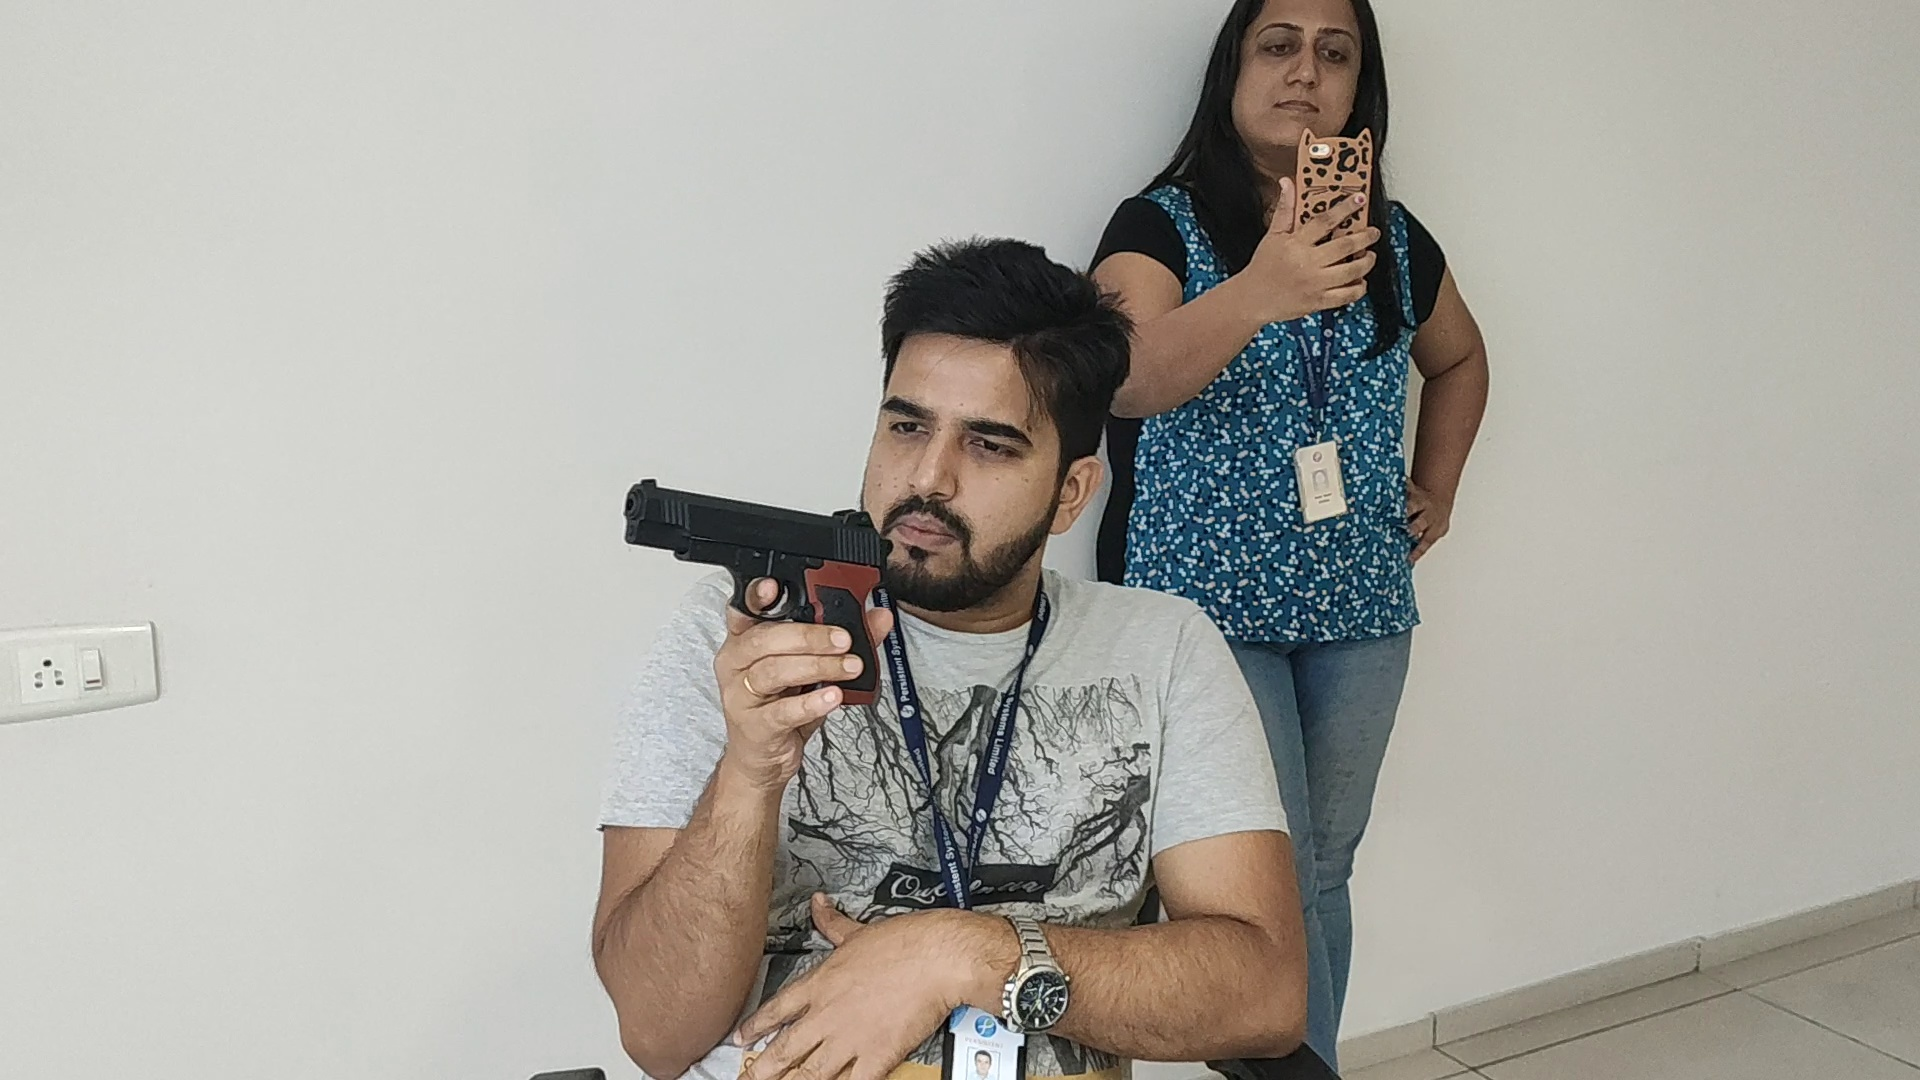gun: (622, 477, 894, 605)
